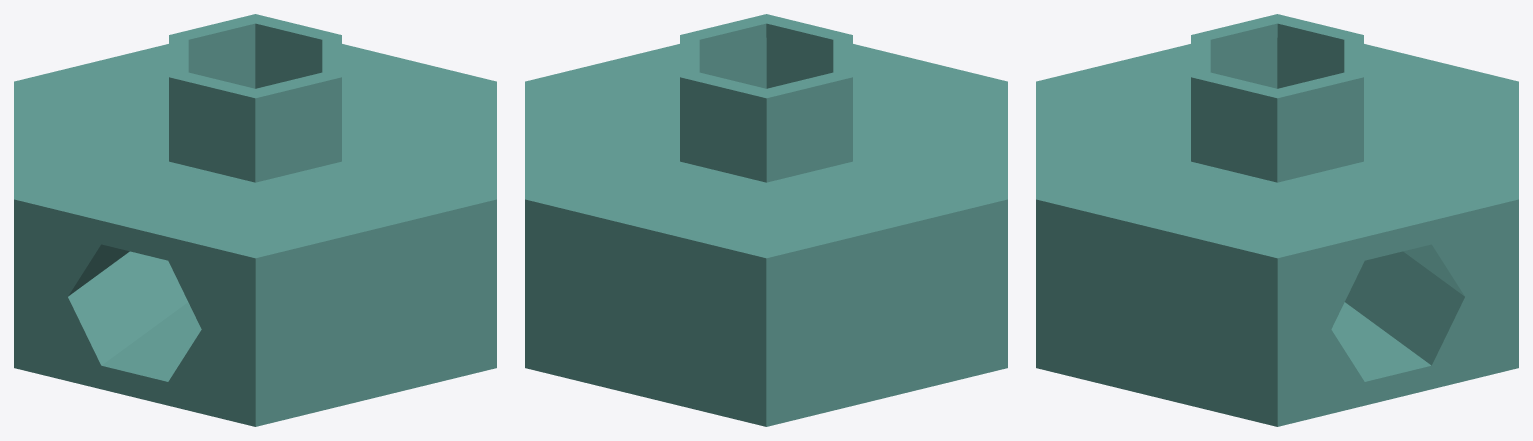
The model's file is speedGate.glb.
The picture shows the model from 3 angles, left to right: view 1: azimuth 30°, elevation 25°; view 2: azimuth 150°, elevation 25°; view 3: azimuth 270°, elevation 25°; orthographic projection.
Parts seen in each view (by area): view 1: speedGate-col; view 2: speedGate-col; view 3: speedGate-col.
Boxes of the visible parts, <box> form: speedGate-col: <box>14,14,496,426</box>; speedGate-col: <box>525,14,1007,426</box>; speedGate-col: <box>1036,14,1518,426</box>.
Bounding box in the file's own units: 1.73 × 0.867 × 1.5.
